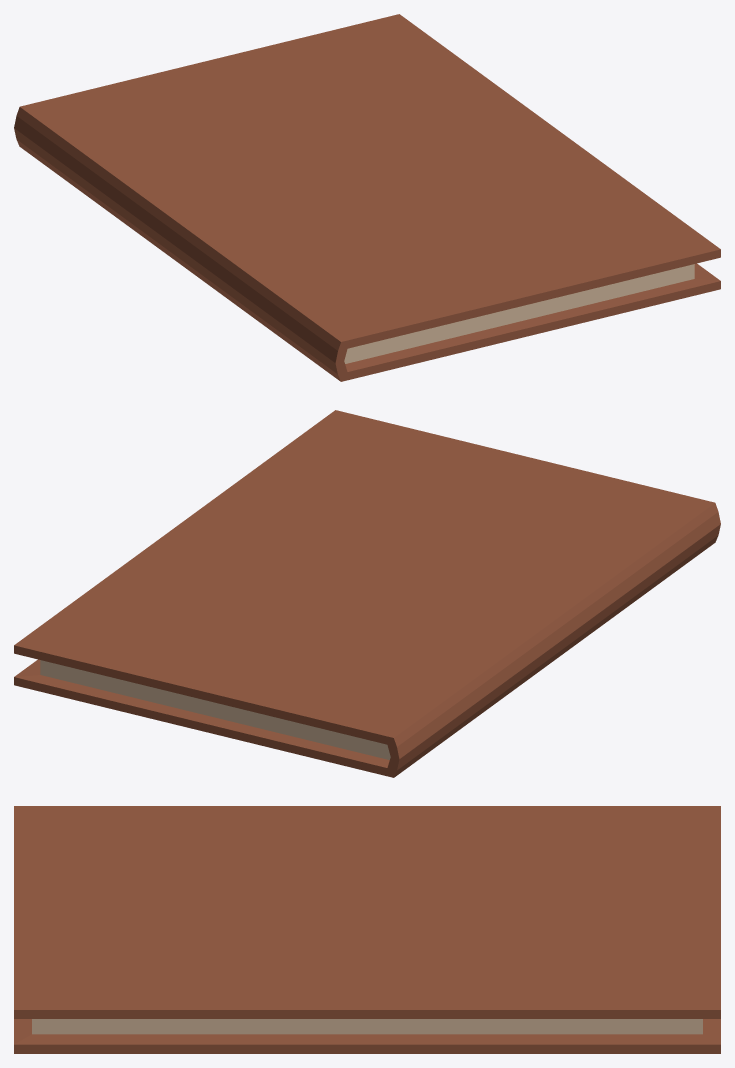
File: Book_11.fbx
3 views of the same model, one above another, from view 1: azimuth 30°, elevation 25°; view 2: azimuth 150°, elevation 25°; view 3: azimuth 270°, elevation 25° (orthographic). The views are drawn at different scales.
Parts seen in each view (by area): view 1: Book_11; view 2: Book_11; view 3: Book_11.
Part boxes in pixels (x1,y1,x2,y2): Book_11: (14, 14, 720, 381); Book_11: (14, 410, 720, 777); Book_11: (14, 806, 720, 1053).
Size of the model in its own units: 18.46 by 1.83 by 26.67.
